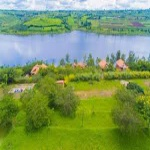Forest: (26, 82, 76, 132), (113, 84, 148, 133)
Lake: (2, 27, 145, 67)
Uncultivated: (4, 81, 148, 148)
